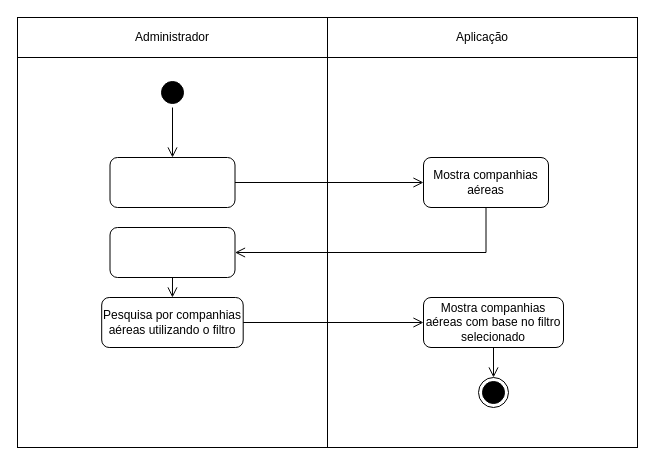
Some shapes in this 655 by 465 pixel diagram are drawn without their labels. The shapes that lost their labels are listed below. From the top down, each one's centre as x and y in pixels, then its label:
At point 172,182: "Entra na tela de ver companhias aéreas".
At point 172,252: "Escolhe filtros".
